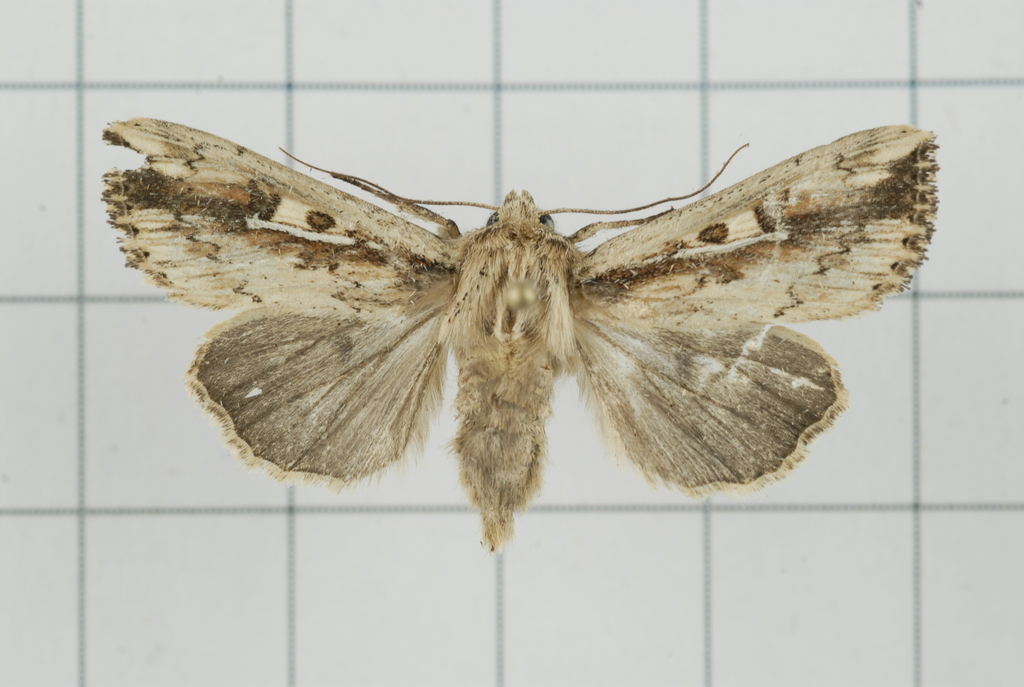Butterfly: (88, 104, 944, 568)
